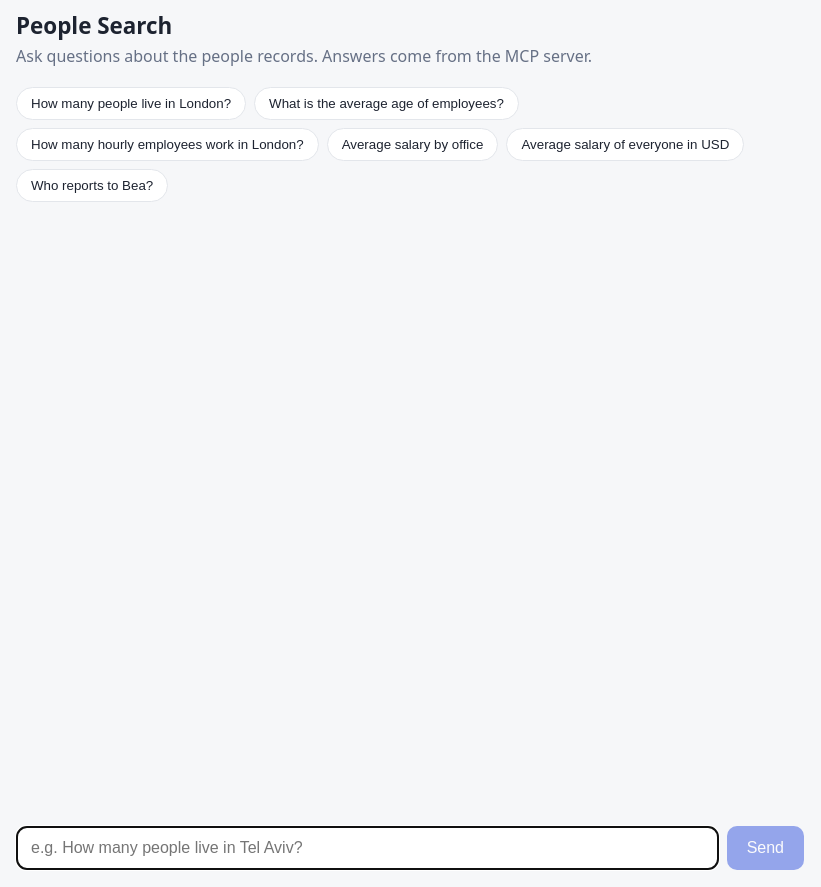
it: People Search chat › sends the conversation history for follow-up questions
Type "London?" into the field at x=367, y=848, box [16,826,719,870]
Then press Enter
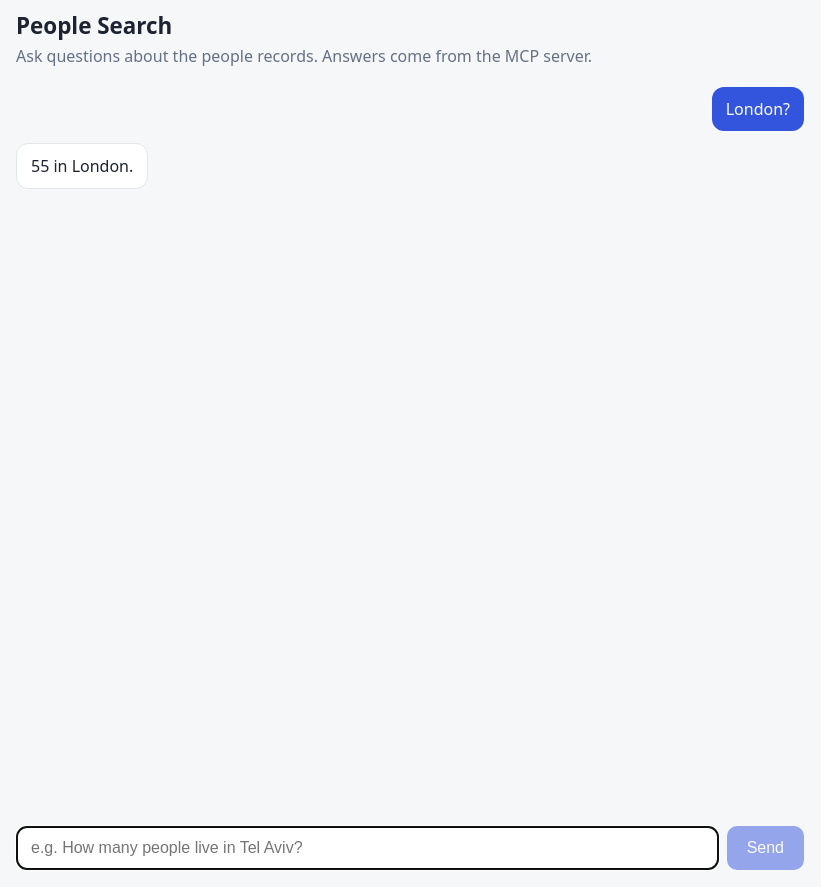
Expected: the text "55 in London." is shown, [31,154,133,178]
Type "And NYC?" into the field at x=367, y=848, box [16,826,719,870]
Then press Enter
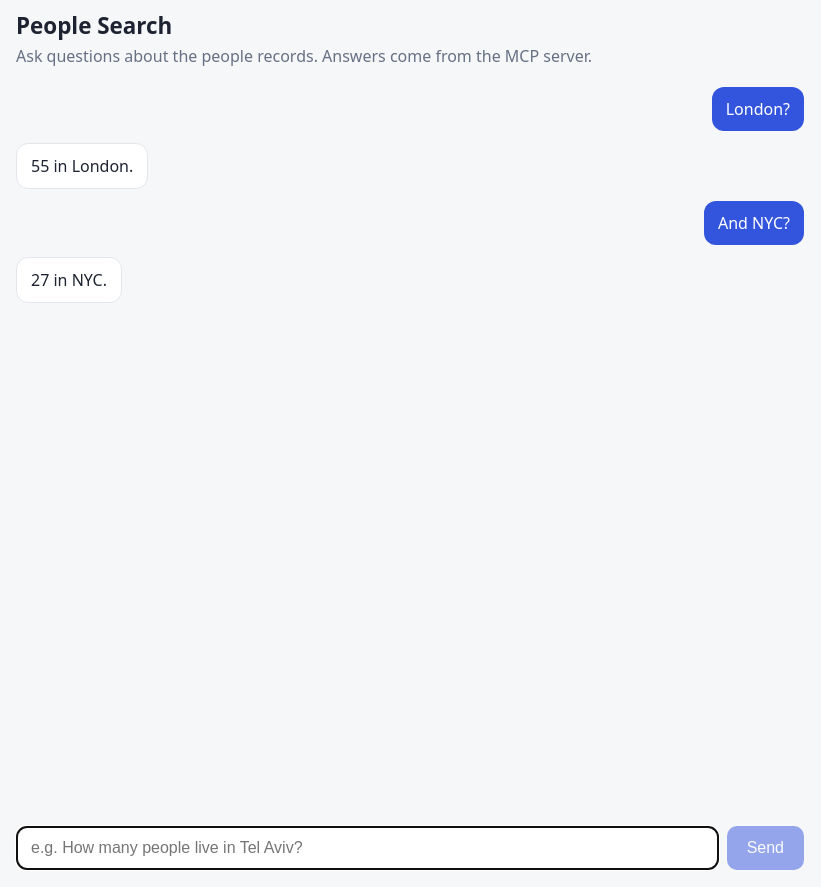
Expected: the text "27 in NYC." is shown, [31,268,107,292]
